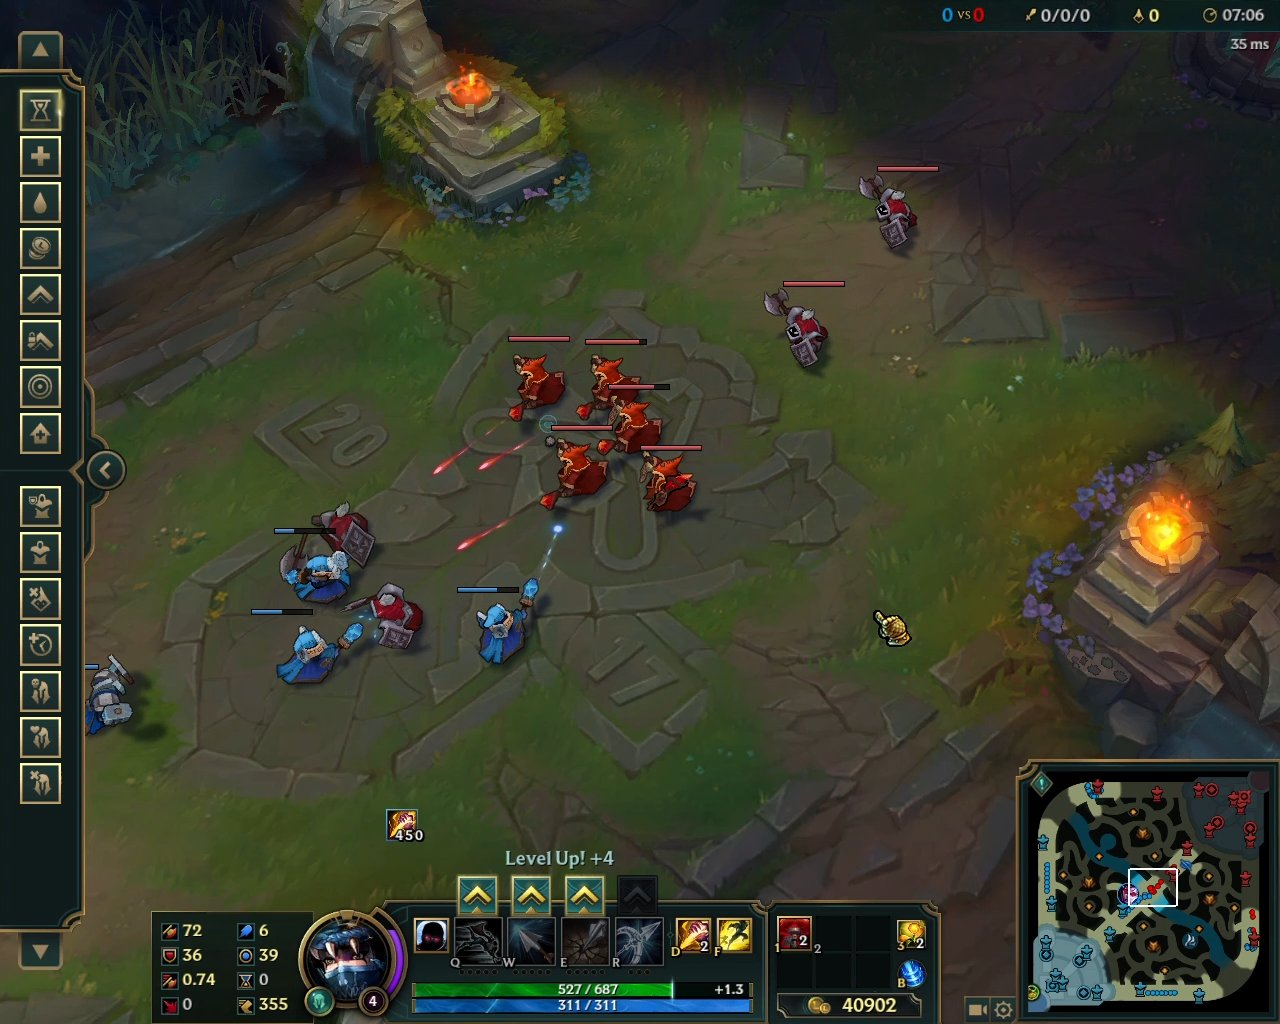EnemyMinion: (758, 281, 845, 371), (854, 164, 939, 252), (537, 425, 614, 514), (501, 336, 569, 427), (573, 338, 645, 421), (596, 385, 672, 460), (634, 445, 702, 518)
